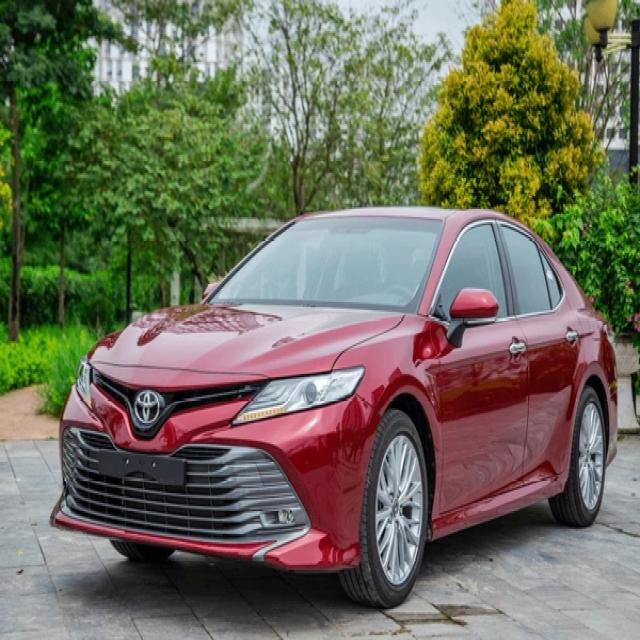toyota: (132, 389, 164, 426)
